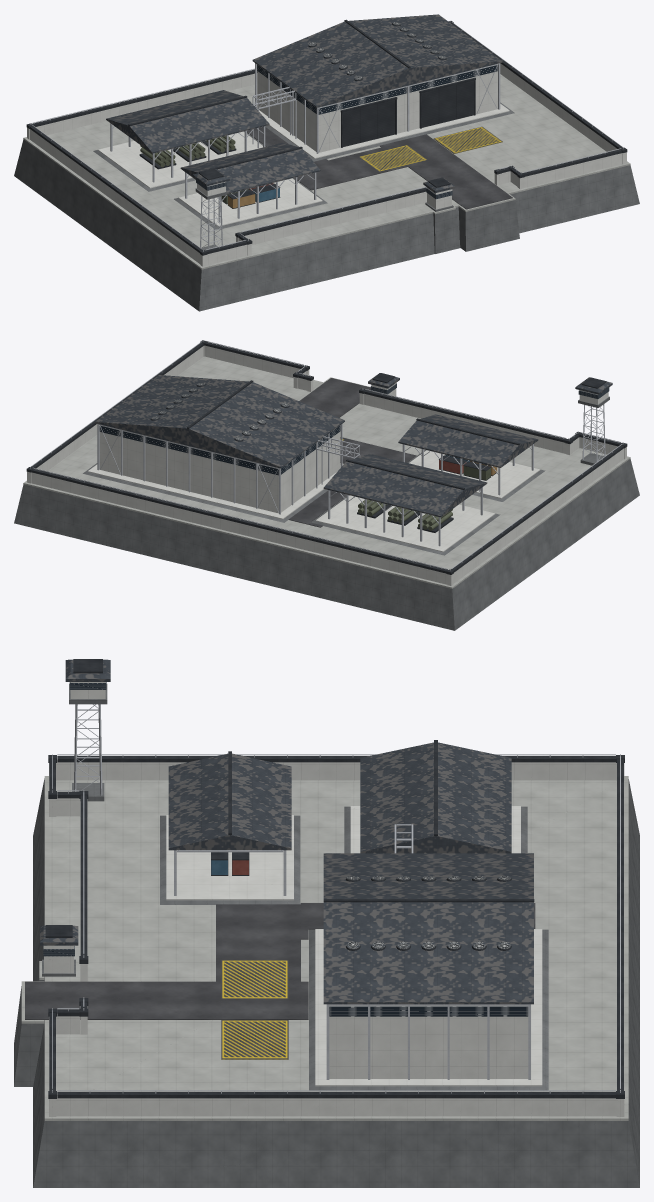
File: abm_plant.glb
3 views of the same model, one above another, from view 1: azimuth 30°, elevation 25°; view 2: azimuth 150°, elevation 25°; view 3: azimuth 270°, elevation 25° (orthographic). The views are drawn at different scales.
Visible parts, largest first — view 1: PLT_L1_ConcDark, PLT_L1_RoofCorr, PLT_L1_ConcLight, PLT_L1_ConcMid, PLT_L1_SteelDark, PLT_L1_Asphalt, PLT_L1_SteelTruss, PLT_L1_DoorCorr, PLT_L1_HatchZone, PLT_L1_WindowDark, PLT_L1_MilOlive; view 2: PLT_L1_ConcDark, PLT_L1_ConcLight, PLT_L1_RoofCorr, PLT_L1_ConcMid, PLT_L1_SteelDark, PLT_L1_SteelTruss, PLT_L1_Asphalt, PLT_L1_WindowDark, PLT_L1_MilOlive, PLT_L1_RoofVent; view 3: PLT_L1_ConcMid, PLT_L1_RoofCorr, PLT_L1_ConcDark, PLT_L1_ConcLight, PLT_L1_Asphalt, PLT_L1_SteelDark, PLT_L1_SteelTruss, PLT_L1_HatchZone, PLT_L1_WindowDark, PLT_L1_RoofVent.
Part boxes in pixels (left/top/right/bottom): PLT_L1_ConcDark: left=14, top=102, right=639, bottom=311; PLT_L1_RoofCorr: left=106, top=14, right=502, bottom=193; PLT_L1_ConcLight: left=27, top=63, right=626, bottom=266; PLT_L1_ConcMid: left=23, top=74, right=630, bottom=269; PLT_L1_SteelDark: left=26, top=19, right=627, bottom=255; PLT_L1_Asphalt: left=247, top=127, right=512, bottom=209; PLT_L1_SteelTruss: left=30, top=20, right=623, bottom=251; PLT_L1_DoorCorr: left=343, top=80, right=473, bottom=146; PLT_L1_HatchZone: left=359, top=126, right=502, bottom=171; PLT_L1_WindowDark: left=196, top=65, right=497, bottom=199; PLT_L1_MilOlive: left=140, top=136, right=248, bottom=203; PLT_L1_ConcDark: left=14, top=396, right=639, bottom=630; PLT_L1_ConcLight: left=27, top=345, right=626, bottom=585; PLT_L1_RoofCorr: left=95, top=373, right=612, bottom=517; PLT_L1_ConcMid: left=23, top=356, right=630, bottom=588; PLT_L1_SteelDark: left=26, top=340, right=627, bottom=574; PLT_L1_SteelTruss: left=30, top=340, right=623, bottom=570; PLT_L1_Asphalt: left=288, top=378, right=416, bottom=527; PLT_L1_WindowDark: left=99, top=383, right=609, bottom=475; PLT_L1_MilOlive: left=358, top=466, right=490, bottom=530; PLT_L1_RoofVent: left=151, top=382, right=288, bottom=440; PLT_L1_ConcMid: left=21, top=776, right=628, bottom=1120; PLT_L1_RoofCorr: left=40, top=659, right=533, bottom=1004; PLT_L1_ConcDark: left=14, top=683, right=639, bottom=1187; PLT_L1_ConcLight: left=43, top=682, right=624, bottom=1116; PLT_L1_Asphalt: left=25, top=903, right=535, bottom=1019; PLT_L1_SteelDark: left=45, top=659, right=624, bottom=1098; PLT_L1_SteelTruss: left=52, top=704, right=620, bottom=1093; PLT_L1_HatchZone: left=221, top=960, right=288, bottom=1059; PLT_L1_WindowDark: left=43, top=682, right=528, bottom=1016; PLT_L1_RoofVent: left=346, top=876, right=511, bottom=949.
Bounding box in the file's own units: 118 × 30.04 × 88.2.
15 materials, 15 textured.
